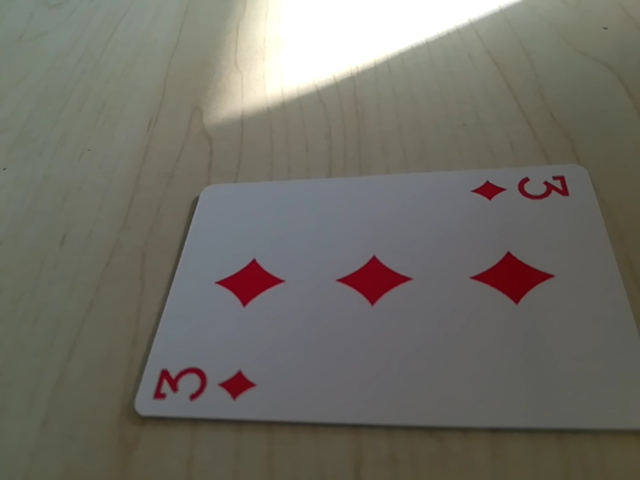fk 3: (144, 356, 259, 413), (471, 168, 575, 211)
